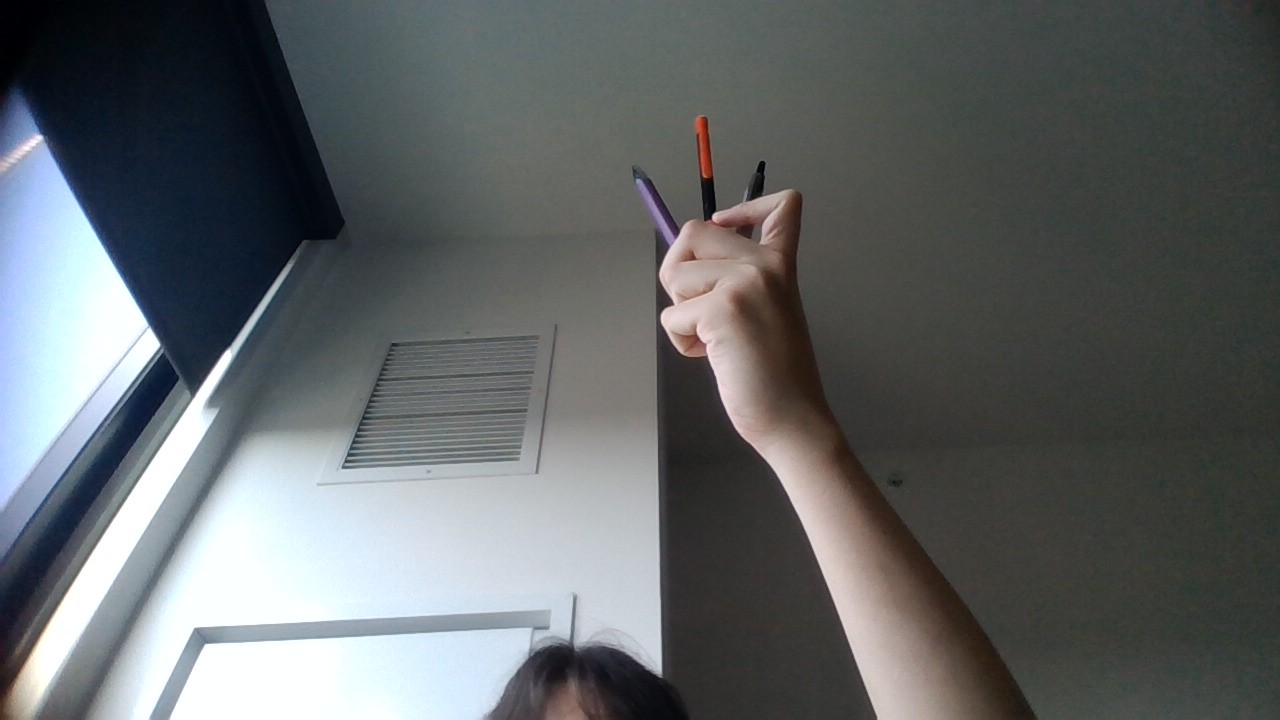Cypres Pen Purple: (629, 161, 678, 241)
Red Mechanical Pencil: (691, 112, 717, 221)
Silver Pen: (736, 160, 767, 237)
